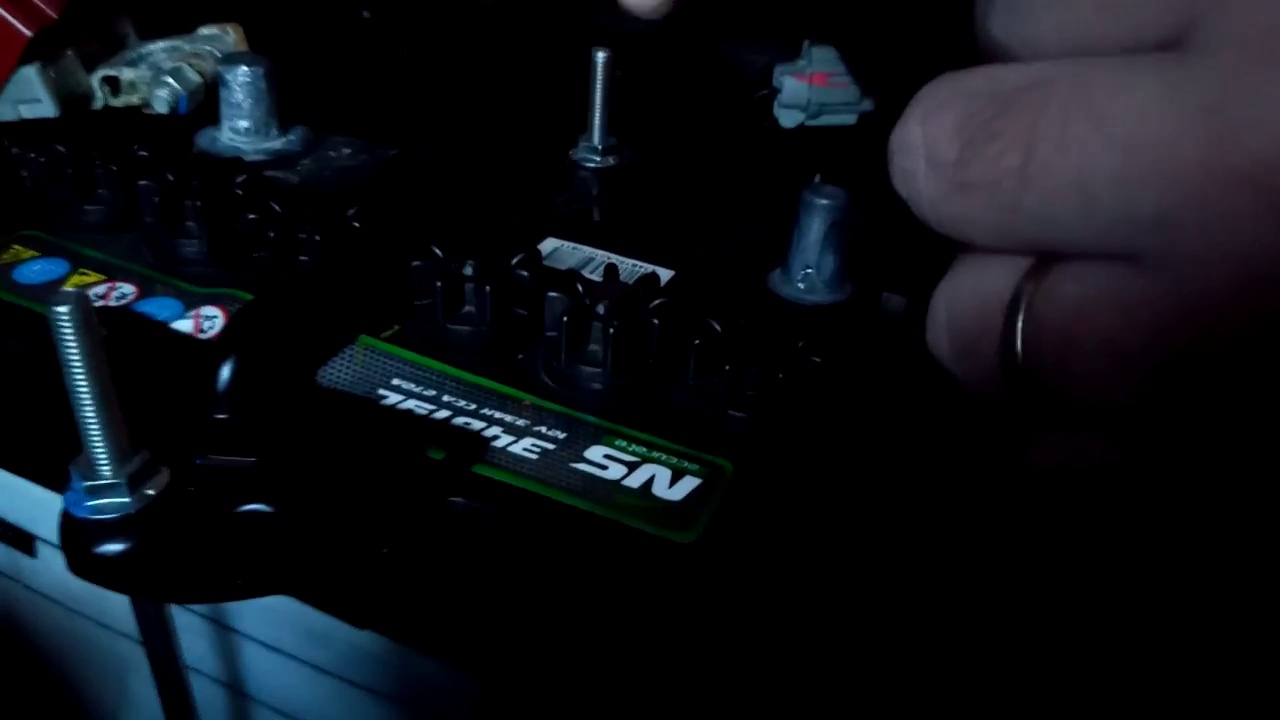battery: (20, 28, 940, 615)
